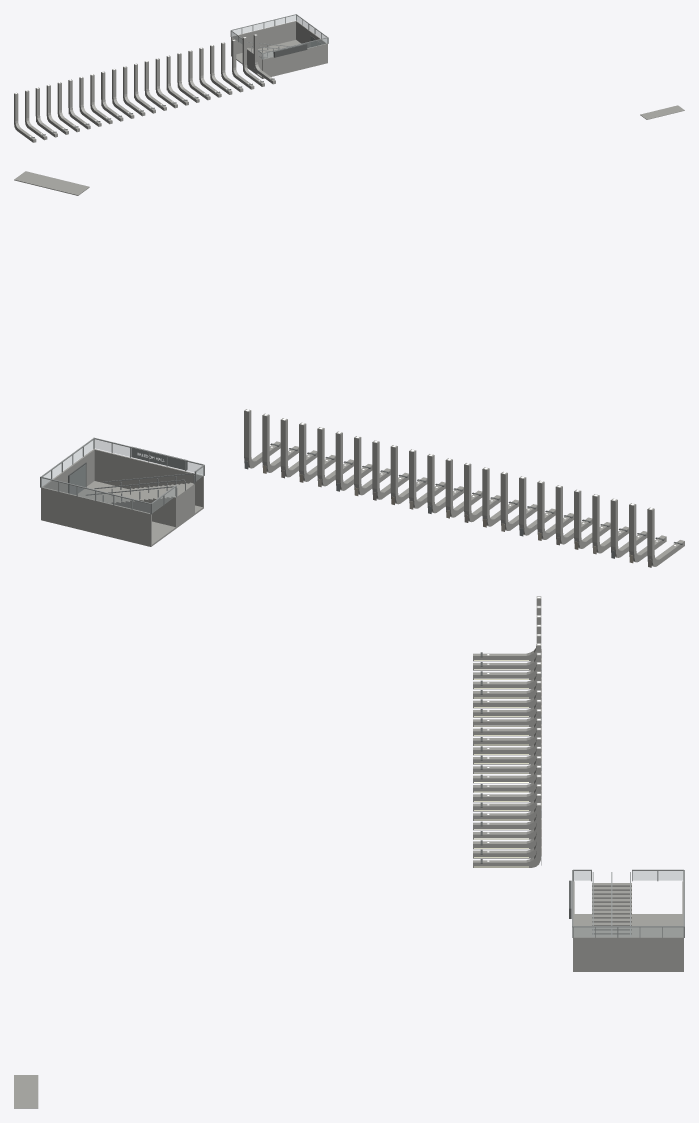
The model's file is 20261103-gratitude-garden.glb.
3 renders of one model, top to bottom at view 1: azimuth 30°, elevation 25°; view 2: azimuth 150°, elevation 25°; view 3: azimuth 270°, elevation 25°, orthographic. The views are drawn at different scales.
Parts seen in each view (by area): view 1: Freedom entrance side retaining walls, Freedom entrance perimeter glass guard, Freedom entrance floor, Freedom entrance descending treads, Watercourse pedestrian bridge at crossing, Gratitude Light 21 - Italy, Gratitude Light 09 - Sweden, Gratitude Light 01 - United States, Gratitude Light 06 - France, Gratitude Light 15 - Belgium, Gratitude Light 05 - Canada, Gratitude Light 18 - Ethiopia (+18 smaller); view 2: Freedom entrance side retaining walls, Freedom entrance descending treads, Freedom entrance perimeter glass guard, Freedom entrance floor, Watercourse pedestrian bridge at crossing, Gratitude Light 01 - United States, Gratitude Light 02 - United Kingdom, Gratitude Light 08 - Philippines, Gratitude Light 20 - Norway, Gratitude Light 11 - Thailand, Gratitude Light 14 - Greece, Gratitude Light 23 - Republic of Korea (+16 smaller); view 3: Freedom entrance side retaining walls, Freedom entrance descending treads, Gratitude 23 warm linear footing lights, Freedom entrance floor, Freedom entrance perimeter glass guard, Gratitude Light 23 - Republic of Korea, Watercourse pedestrian bridge at crossing.
Part boxes in pixels (x1,y1,x2,y2): Freedom entrance side retaining walls: (231, 20, 327, 77); Freedom entrance perimeter glass guard: (232, 15, 327, 58); Freedom entrance floor: (231, 40, 327, 78); Freedom entrance descending treads: (247, 48, 274, 74); Watercourse pedestrian bridge at crossing: (640, 105, 684, 119); Gratitude Light 21 - Italy: (232, 39, 254, 89); Gratitude Light 09 - Sweden: (101, 71, 123, 121); Gratitude Light 01 - United States: (14, 92, 36, 142); Gratitude Light 06 - France: (68, 79, 90, 129); Gratitude Light 15 - Belgium: (166, 55, 188, 105); Gratitude Light 05 - Canada: (57, 82, 79, 132); Gratitude Light 18 - Ethiopia: (199, 47, 221, 97); Freedom entrance side retaining walls: (41, 449, 203, 545); Freedom entrance descending treads: (93, 482, 194, 527); Freedom entrance perimeter glass guard: (41, 439, 202, 513); Freedom entrance floor: (41, 481, 203, 546); Watercourse pedestrian bridge at crossing: (14, 171, 89, 195); Gratitude Light 01 - United States: (647, 507, 684, 566); Gratitude Light 02 - United Kingdom: (629, 503, 666, 562); Gratitude Light 08 - Philippines: (519, 476, 555, 535); Gratitude Light 20 - Norway: (299, 422, 335, 481); Gratitude Light 11 - Thailand: (464, 463, 500, 522); Gratitude Light 14 - Greece: (409, 449, 445, 508); Gratitude Light 23 - Republic of Korea: (244, 409, 280, 468); Freedom entrance side retaining walls: (573, 881, 683, 970); Freedom entrance descending treads: (592, 883, 631, 936); Gratitude 23 warm linear footing lights: (474, 660, 528, 867); Freedom entrance floor: (573, 914, 683, 971); Freedom entrance perimeter glass guard: (574, 927, 683, 936); Gratitude Light 23 - Republic of Korea: (473, 803, 541, 867); Watercourse pedestrian bridge at crossing: (14, 1075, 38, 1108).
Bounding box in the file's own units: 95.95 × 9.69 × 60.38.
